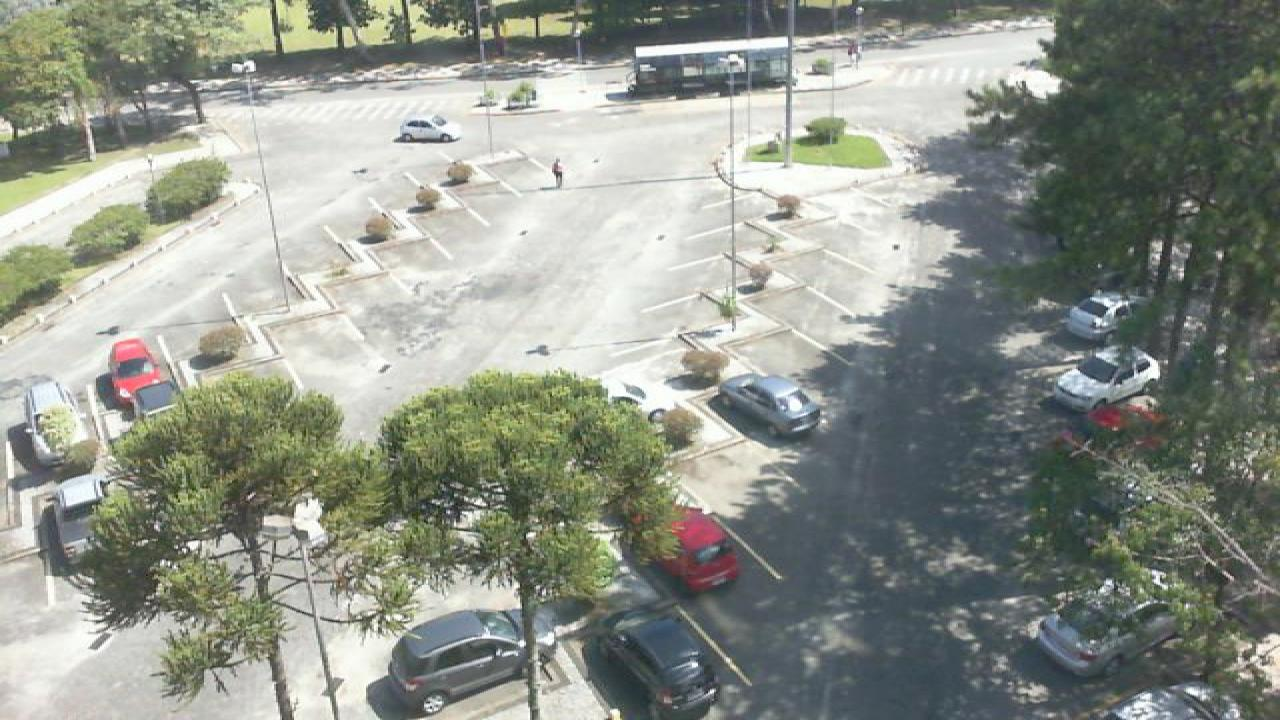Car: (380, 606, 558, 718), (584, 606, 720, 720), (1028, 586, 1182, 678), (630, 505, 740, 593), (1052, 343, 1166, 412), (714, 371, 824, 438), (36, 471, 112, 557), (18, 378, 84, 466), (1074, 398, 1172, 454), (594, 369, 682, 424), (106, 338, 172, 409), (1064, 290, 1140, 341), (128, 379, 182, 424)
